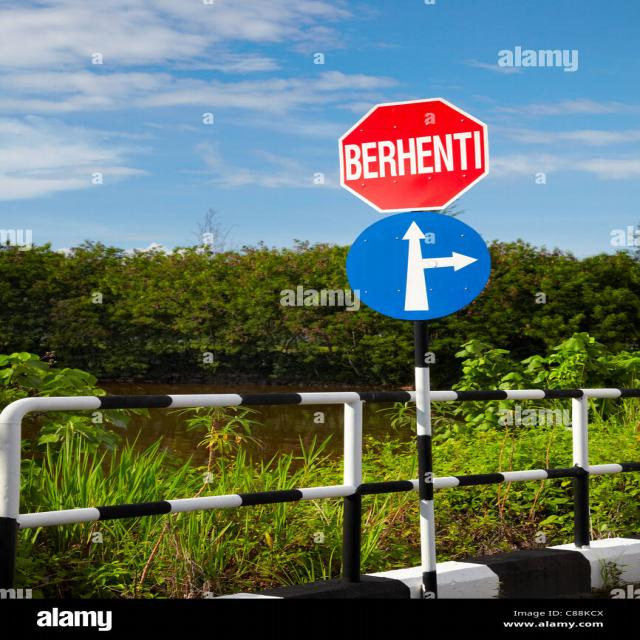stop-sign: (312, 91, 529, 197)
